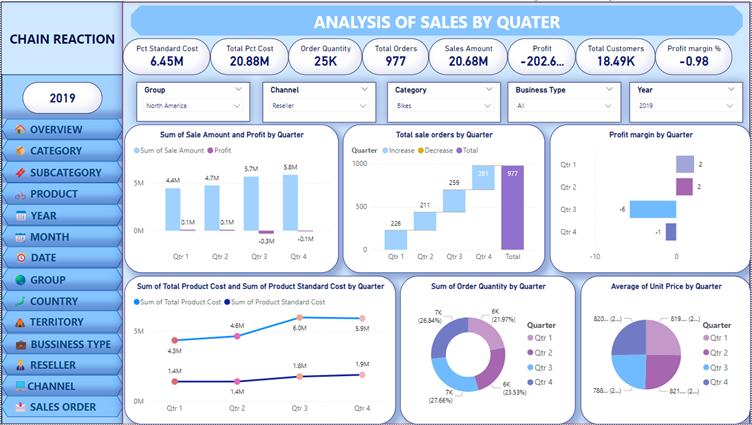

What the dashboard file says about the page in this screenshot:
{"tool":"powerbi","page":{"name":"Quater","canvas":[1280,720],"ordinal":7},"visuals":[{"type":"shape","box":[0,0,209.9,720.4],"z":0},{"type":"shape","box":[0,199.4,208.6,35],"z":1000},{"type":"shape","box":[0,234.3,209,37],"z":2000},{"type":"shape","box":[0,271.3,209,37],"z":3000},{"type":"shape","box":[0,308.3,209,37],"z":4000},{"type":"shape","box":[1,345.3,208,36],"z":5000},{"type":"shape","box":[0,381.3,209,36],"z":6000},{"type":"shape","box":[1,417.3,208,36],"z":7000},{"type":"shape","box":[0,453.3,208,38],"z":8000},{"type":"shape","box":[0,491.3,209,35],"z":9000},{"type":"shape","box":[0,526.3,209,38],"z":10000},{"type":"shape","box":[0,564.3,209,35],"z":11000},{"type":"shape","box":[0,599.3,209,36],"z":12000},{"type":"shape","box":[0,635.3,209,36],"z":13000},{"type":"shape","box":[0,671.3,209,36],"z":14000},{"type":"shape","title":"dbdbdjb","box":[235.7,0,1044.3,52.1],"z":15000},{"type":"shape","box":[0.4,0,209.1,124.7],"z":16000},{"type":"shape","box":[207.2,0,1073.1,720.4],"z":17000},{"type":"card","title":"Order Quantity","fields":{"Values":["Sum(Sales.Order Quantity)"]},"box":[490.4,62.4,126,62.4],"z":18000},{"type":"card","title":"Pct Standard Cost","fields":{"Values":["Sum(Sales.Product Standard Cost)"]},"box":[207.9,62.4,149.2,62.4],"z":19000},{"type":"card","title":"Sales Amount","fields":{"Values":["Sum(Sales.Sale Amount)"]},"box":[730,62.4,134.5,62.4],"z":20000},{"type":"card","title":"Profit","fields":{"Values":["Sales.Profit"]},"box":[864.5,62.4,116.2,62.4],"z":21000},{"type":"card","title":"Total Pct Cost","fields":{"Values":["Sum(Sales.Total Product Cost)"]},"box":[357.1,62.4,133.3,62.4],"z":22000},{"type":"card","title":"Total Orders","fields":{"Values":["Sales.Total sale orders"]},"box":[616.3,62.4,113.7,62.4],"z":23000},{"type":"card","title":"Total Customers","fields":{"Values":["Count(Customer.Customer ID)"]},"box":[980.7,62.4,135.7,62.4],"z":24000},{"type":"card","title":"Profit margin %","fields":{"Values":["Sales.Profit margin"]},"box":[1116.4,62.4,130.8,62.4],"z":25000},{"type":"slicer","title":"Date","fields":{"Values":["Date.Year"]},"box":[1072.4,137,193.2,68.5],"z":26000},{"type":"slicer","title":"Category","fields":{"Values":["Category.Category"]},"box":[659.1,137,193.2,68.5],"z":27000},{"type":"slicer","title":"Channel","fields":{"Values":["Channel.Channel"]},"box":[446.3,137,193.2,68.5],"z":28000},{"type":"slicer","title":"Group","fields":{"Values":["Group.Group"]},"box":[231.1,137,193.2,67.3],"z":29000},{"type":"shape","title":"dbdbdjb","box":[221.1,5.6,1044.4,52.2],"z":30000},{"type":"slicer","title":"Category","fields":{"Values":["Business Type.Business Type"]},"box":[864.5,137,193.2,68.5],"z":31000},{"type":"clusteredColumnChart","fields":{"Category":["Date.Full Date.Variation.Date Hierarchy.Quarter"],"Y":["Sum(Sales.Sale Amount)","Sales.Profit"]},"box":[210.3,209.1,365.6,253.1],"z":32000},{"type":"waterfallChart","fields":{"Category":["Date.Full Date.Variation.Date Hierarchy.Quarter"],"Y":["Sales.Total sale orders"]},"box":[583.3,209.1,344.8,253.1],"z":33000},{"type":"lineChart","fields":{"Y":["Sum(Sales.Total Product Cost)","Sum(Sales.Product Standard Cost)"],"Category":["Date.Full Date.Variation.Date Hierarchy.Quarter"]},"box":[210.3,466.9,463.5,253.1],"z":34000},{"type":"clusteredBarChart","fields":{"Category":["Date.Full Date.Variation.Date Hierarchy.Quarter"],"Y":["Sales.Profit margin"]},"box":[936.4,209.1,343.6,253.1],"z":35000},{"type":"donutChart","fields":{"Y":["Sum(Sales.Order Quantity)"],"Category":["Date.Full Date.Variation.Date Hierarchy.Quarter"]},"box":[681.1,466.9,299.6,253.1],"z":36000},{"type":"pieChart","fields":{"Category":["Date.Full Date.Variation.Date Hierarchy.Quarter"],"Y":["Avg(Sales.Unit Price)"]},"box":[989,466.9,291,253.1],"z":37000},{"type":"card","fields":{"Values":["Date.SYear"]},"box":[36.7,137,135.7,53.8],"z":38000}]}

Visuals, with their boxes in screenshot pixels (x1, y1, x2, y2), scaled from the page's 1280x720 canvas onto the 752x425 screenshot:
shape: [x1=0, y1=0, x2=123, y2=424]
shape: [x1=0, y1=118, x2=123, y2=138]
shape: [x1=0, y1=138, x2=123, y2=160]
shape: [x1=0, y1=160, x2=123, y2=182]
shape: [x1=0, y1=182, x2=123, y2=204]
shape: [x1=1, y1=204, x2=123, y2=225]
shape: [x1=0, y1=225, x2=123, y2=246]
shape: [x1=1, y1=246, x2=123, y2=268]
shape: [x1=0, y1=268, x2=122, y2=290]
shape: [x1=0, y1=290, x2=123, y2=311]
shape: [x1=0, y1=311, x2=123, y2=333]
shape: [x1=0, y1=333, x2=123, y2=354]
shape: [x1=0, y1=354, x2=123, y2=375]
shape: [x1=0, y1=375, x2=123, y2=396]
shape: [x1=0, y1=396, x2=123, y2=418]
"dbdbdjb" shape: [x1=138, y1=0, x2=751, y2=31]
shape: [x1=0, y1=0, x2=123, y2=74]
shape: [x1=122, y1=0, x2=751, y2=424]
"Order Quantity" card: [x1=288, y1=37, x2=362, y2=74]
"Pct Standard Cost" card: [x1=122, y1=37, x2=210, y2=74]
"Sales Amount" card: [x1=429, y1=37, x2=508, y2=74]
"Profit" card: [x1=508, y1=37, x2=576, y2=74]
"Total Pct Cost" card: [x1=210, y1=37, x2=288, y2=74]
"Total Orders" card: [x1=362, y1=37, x2=429, y2=74]
"Total Customers" card: [x1=576, y1=37, x2=656, y2=74]
"Profit margin %" card: [x1=656, y1=37, x2=733, y2=74]
"Date" slicer: [x1=630, y1=81, x2=744, y2=121]
"Category" slicer: [x1=387, y1=81, x2=501, y2=121]
"Channel" slicer: [x1=262, y1=81, x2=376, y2=121]
"Group" slicer: [x1=136, y1=81, x2=249, y2=121]
"dbdbdjb" shape: [x1=130, y1=3, x2=743, y2=34]
"Category" slicer: [x1=508, y1=81, x2=621, y2=121]
clusteredColumnChart - Date.Full Date.Variation.Date Hierarchy.Quarter x Sum(Sales.Sale Amount): [x1=124, y1=123, x2=338, y2=273]
waterfallChart - Date.Full Date.Variation.Date Hierarchy.Quarter x Sales.Total sale orders: [x1=343, y1=123, x2=545, y2=273]
lineChart - Sum(Sales.Total Product Cost) x Sum(Sales.Product Standard Cost): [x1=124, y1=276, x2=396, y2=424]
clusteredBarChart - Date.Full Date.Variation.Date Hierarchy.Quarter x Sales.Profit margin: [x1=550, y1=123, x2=751, y2=273]
donutChart - Sum(Sales.Order Quantity) x Date.Full Date.Variation.Date Hierarchy.Quarter: [x1=400, y1=276, x2=576, y2=424]
pieChart - Date.Full Date.Variation.Date Hierarchy.Quarter x Avg(Sales.Unit Price): [x1=581, y1=276, x2=751, y2=424]
card - Date.SYear: [x1=22, y1=81, x2=101, y2=113]
